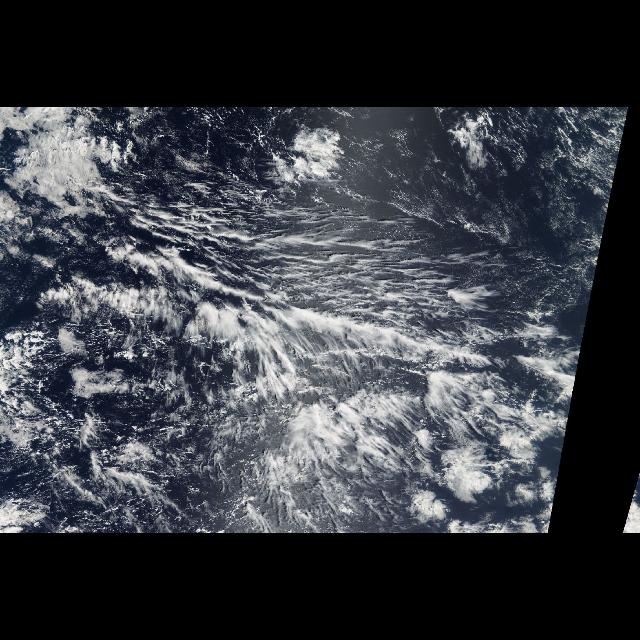Fish: (5, 182, 559, 510)
Gravel: (230, 368, 548, 532)
